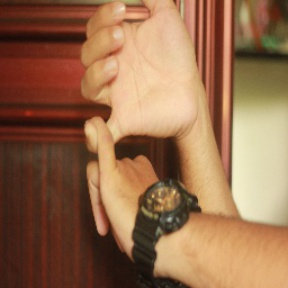S: (67, 3, 217, 256)
